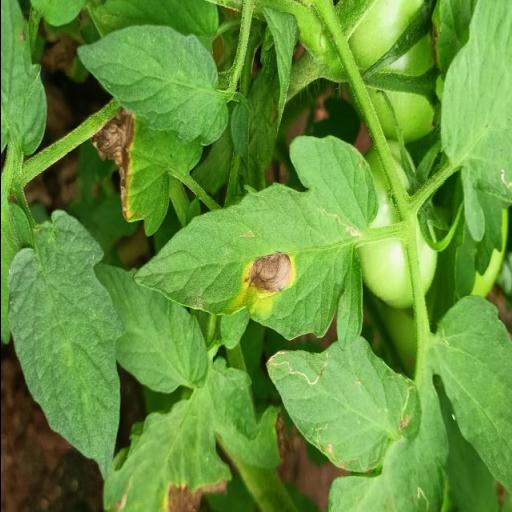Early Blight: (130, 132, 380, 346)
Healthy: (6, 206, 124, 482), (75, 22, 232, 148)
